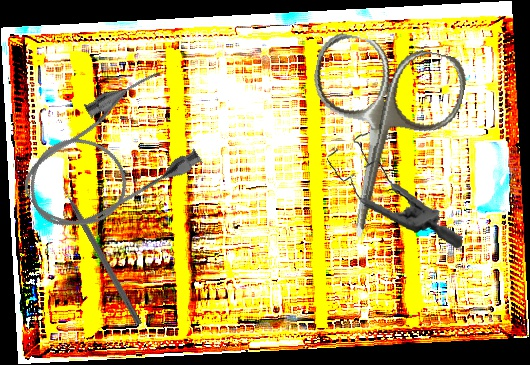Cannula: (2, 61, 213, 252)
Chopper: (56, 173, 150, 326)
Iris Scissors: (283, 29, 471, 253)
Speculum: (318, 127, 474, 250)
